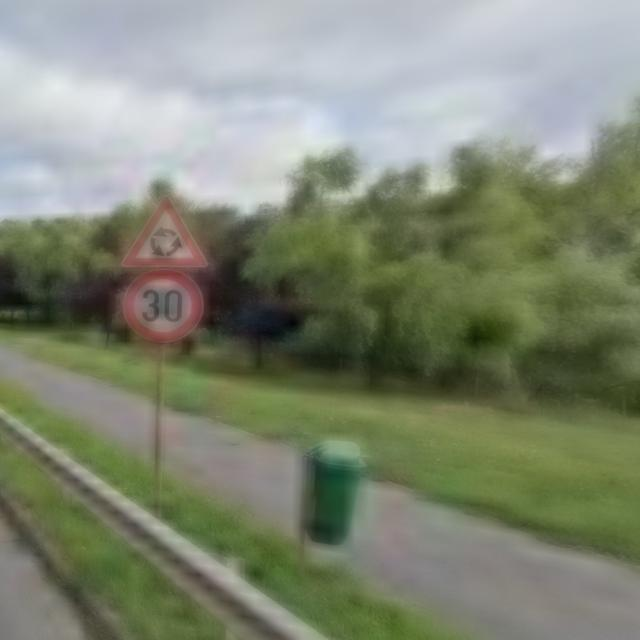forb_speed_over_30: (123, 273, 204, 345)
